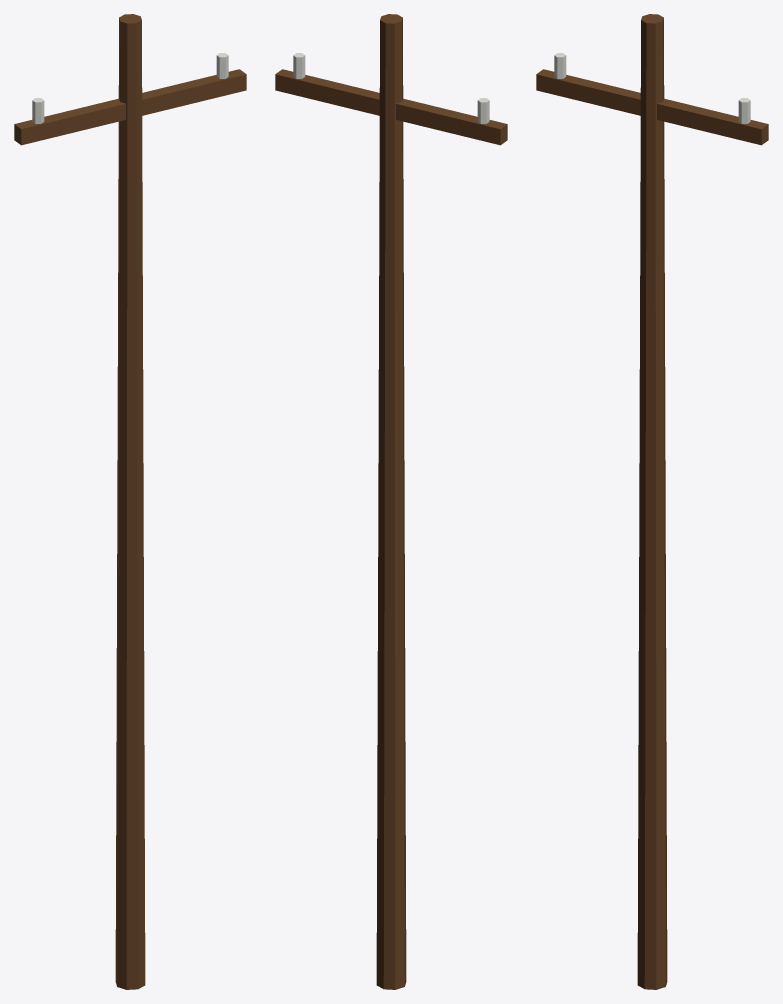
Rendered from power_pole.glb.
3 renders of one model, left to right at view 1: azimuth 30°, elevation 25°; view 2: azimuth 150°, elevation 25°; view 3: azimuth 330°, elevation 25°, orthographic.
Parts seen in each view (by area): view 1: power_pole; view 2: power_pole; view 3: power_pole.
Boxes of the visible parts, x1,y1,x2,y2 form: power_pole: (14, 14, 246, 989); power_pole: (275, 14, 507, 989); power_pole: (536, 14, 768, 989).
Bounding box in the file's own units: 2.2 × 9 × 0.26.
